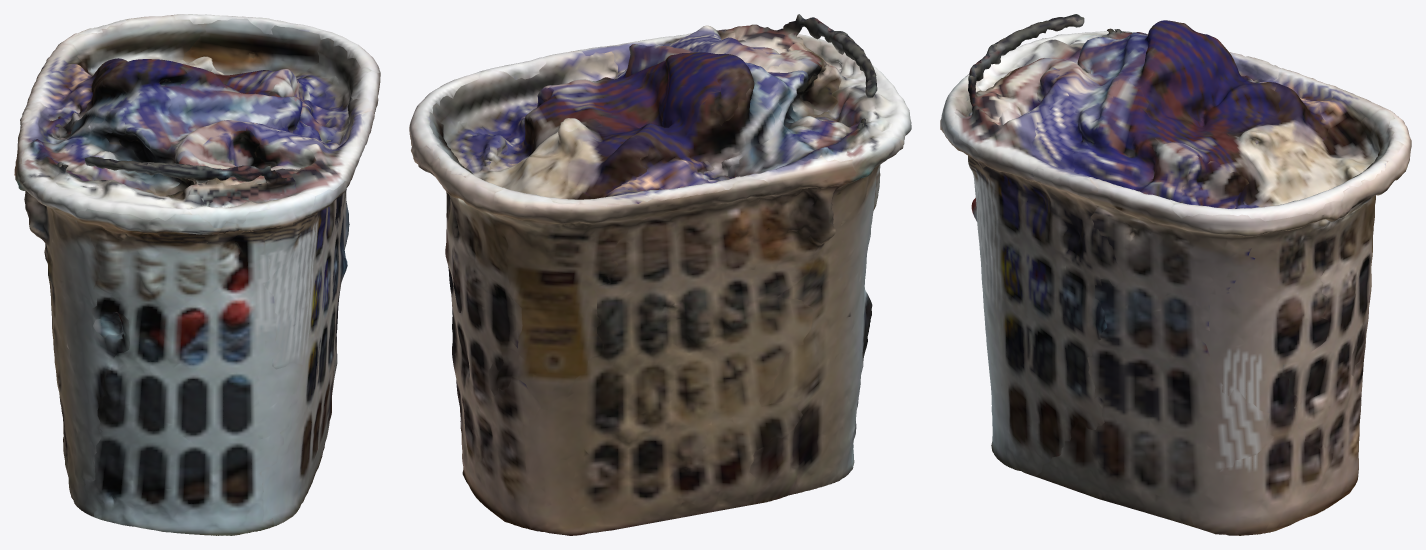
File: laundry basket.glb
3 renders of one model, left to right at view 1: azimuth 30°, elevation 25°; view 2: azimuth 150°, elevation 25°; view 3: azimuth 270°, elevation 25°, orthographic. The views are drawn at different scales.
Parts seen in each view (by area): view 1: Object_4.003; view 2: Object_4.003; view 3: Object_4.003.
Part boxes in pixels (x1,y1,x2,y2): Object_4.003: [14, 14, 380, 535]; Object_4.003: [409, 14, 911, 535]; Object_4.003: [940, 14, 1411, 535].
Size of the model in its own units: 0.6963 by 0.6989 by 0.7301.
Materials: 1 (1 with a texture image).
